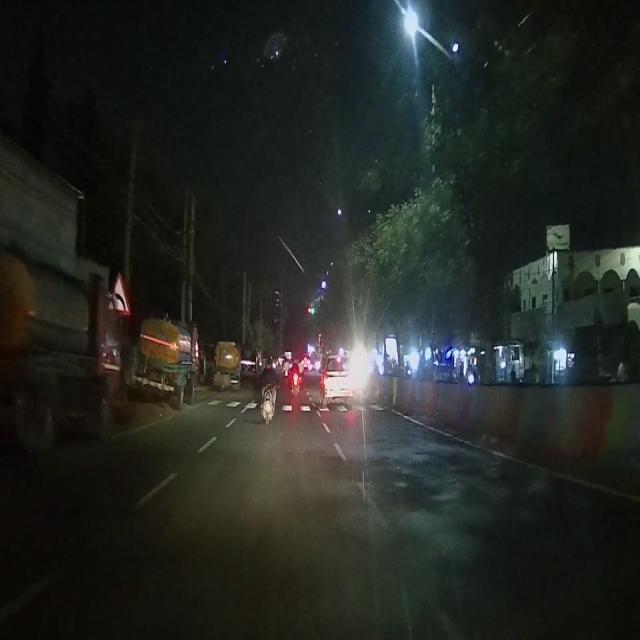left-hand-curve: (108, 267, 134, 319)
